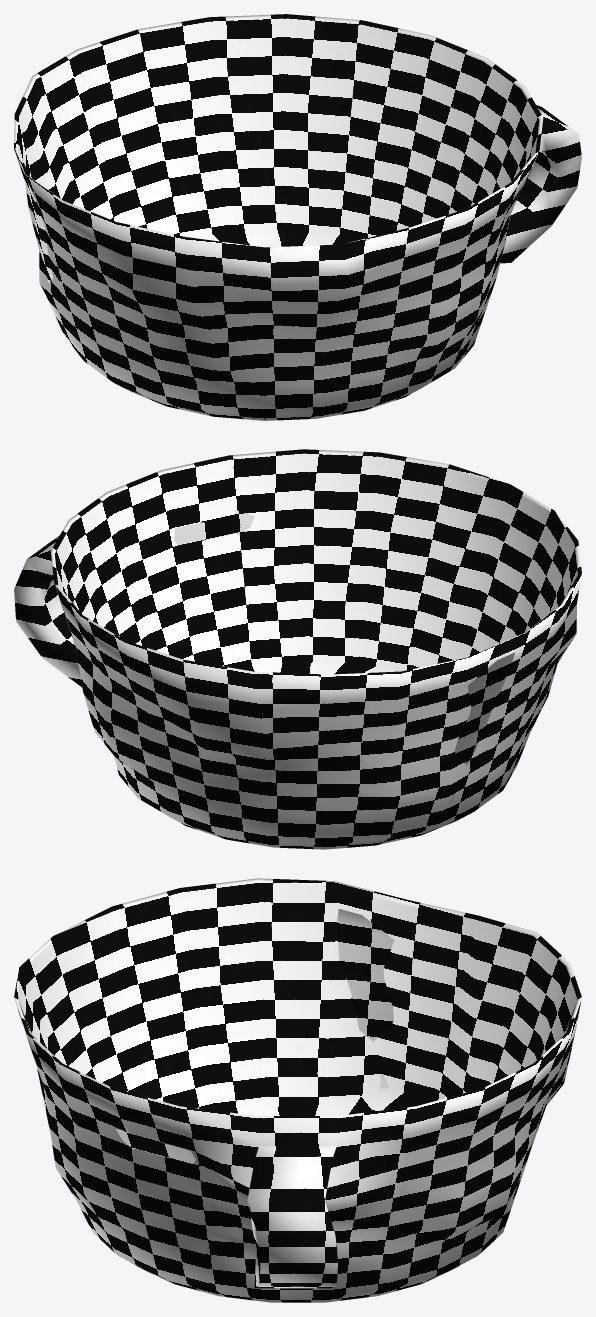
File: little_cup.glb
3 views of the same model, one above another, from view 1: azimuth 30°, elevation 25°; view 2: azimuth 150°, elevation 25°; view 3: azimuth 270°, elevation 25° (orthographic). The views are drawn at different scales.
Parts seen in each view (by area): view 1: Cercle; view 2: Cercle; view 3: Cercle.
Part boxes in pixels (x1,y1,x2,y2): Cercle: (14, 14, 581, 420); Cercle: (14, 449, 581, 849); Cercle: (14, 878, 581, 1302).
Bounding box in the file's own units: 1.65 × 0.6478 × 1.48.
Materials: 1 (1 with a texture image).
